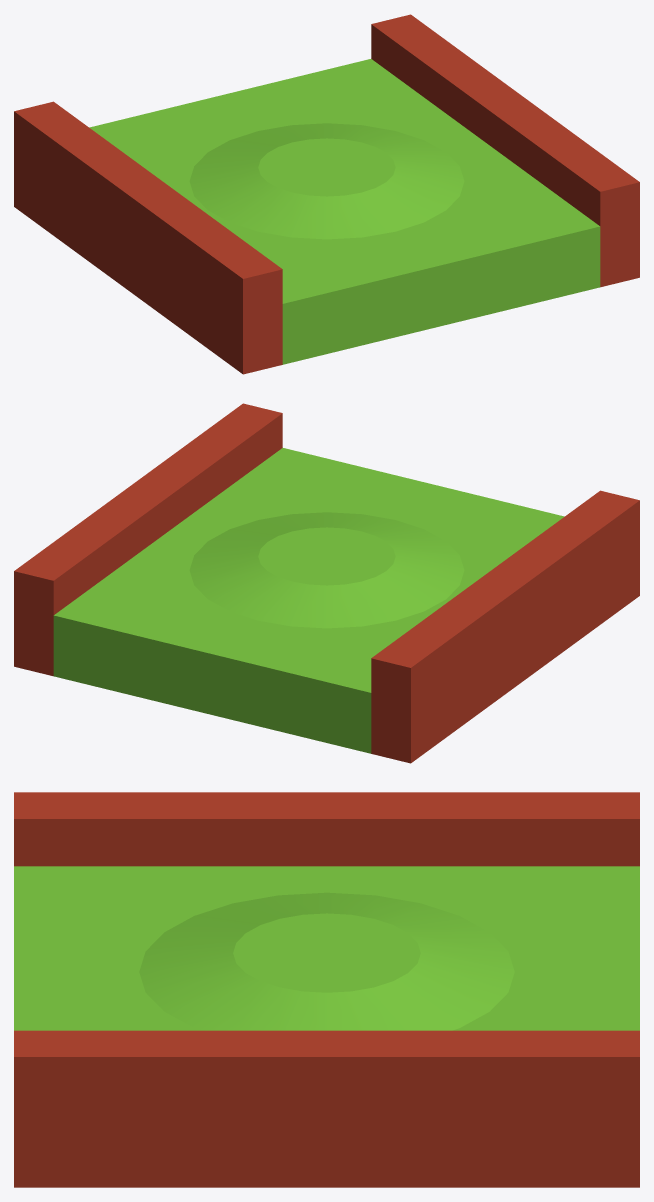
Rendered from Bump_Walls.FBX.
3 renders of one model, top to bottom at view 1: azimuth 30°, elevation 25°; view 2: azimuth 150°, elevation 25°; view 3: azimuth 270°, elevation 25°, orthographic. The views are drawn at different scales.
Visible parts, largest first — view 1: Bump_walls_01, Walls; view 2: Bump_walls_01, Walls; view 3: Walls, Bump_walls_01.
Boxes of the visible parts, bbox=[...] form: Bump_walls_01: bbox=[89, 59, 600, 364]; Walls: bbox=[14, 14, 639, 374]; Bump_walls_01: bbox=[53, 448, 564, 753]; Walls: bbox=[14, 403, 639, 763]; Walls: bbox=[14, 792, 639, 1187]; Bump_walls_01: bbox=[14, 866, 639, 1030].
Size of the model in its own units: 0.9999 by 0.9999 by 0.23.
